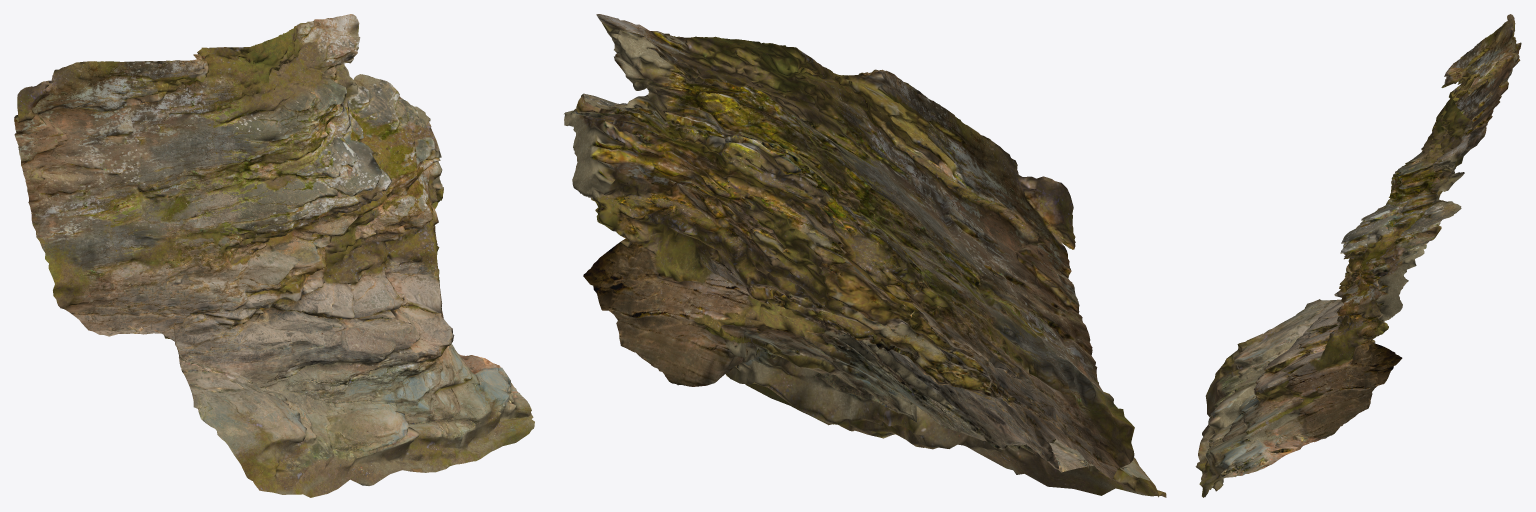
File: rock-face.glb
3 views of the same model, side by side, from view 1: azimuth 30°, elevation 25°; view 2: azimuth 150°, elevation 25°; view 3: azimuth 270°, elevation 25° (orthographic). The views are drawn at different scales.
Parts seen in each view (by area): view 1: rock_face_02; view 2: rock_face_02; view 3: rock_face_02.
Boxes of the visible parts, box(x1,y1,x2,y2) form: rock_face_02: box(14, 14, 534, 497); rock_face_02: box(564, 14, 1166, 497); rock_face_02: box(1195, 14, 1521, 497).
Bounding box in the file's own units: 2.71 × 2.47 × 2.13.
Materials: 1 (1 with a texture image).
